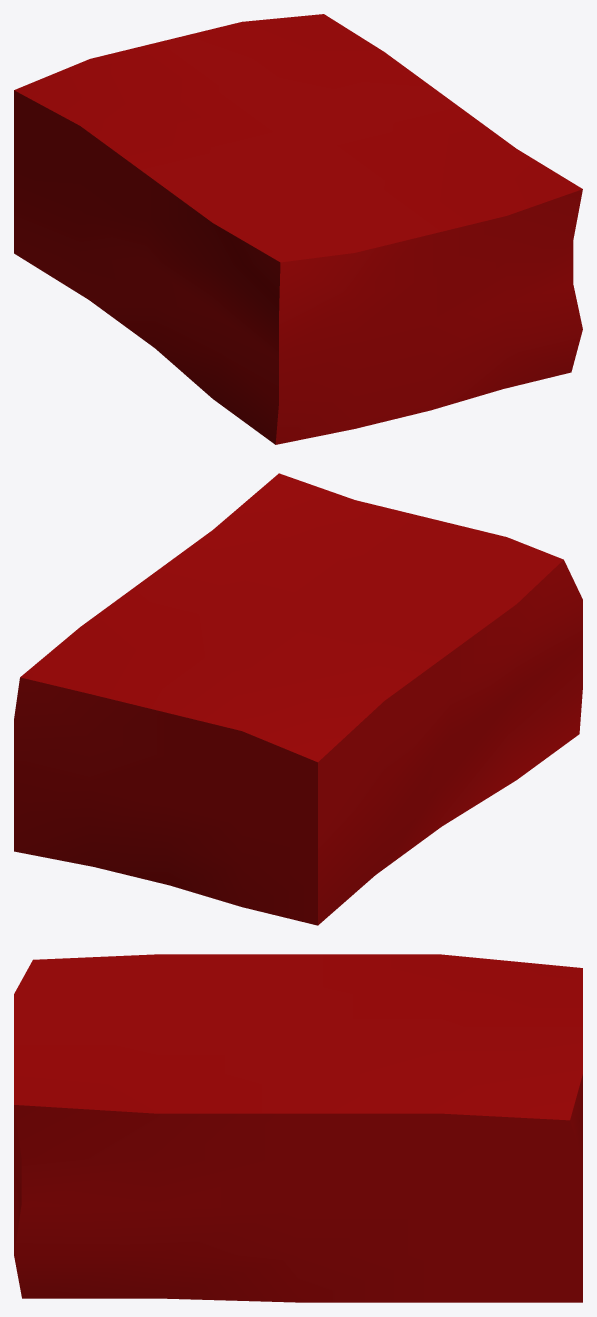
File: Paper_Box_09.FBX
3 renders of one model, top to bottom at view 1: azimuth 30°, elevation 25°; view 2: azimuth 150°, elevation 25°; view 3: azimuth 270°, elevation 25°, orthographic. The views are drawn at different scales.
Visible parts, largest first — view 1: Paper_Box_09; view 2: Paper_Box_09; view 3: Paper_Box_09.
Boxes of the visible parts, x1,y1,x2,y2 form: Paper_Box_09: [14, 14, 582, 444]; Paper_Box_09: [14, 473, 582, 925]; Paper_Box_09: [14, 954, 582, 1302].
Bounding box in the file's own units: 36.58 × 55.25 × 21.19.
